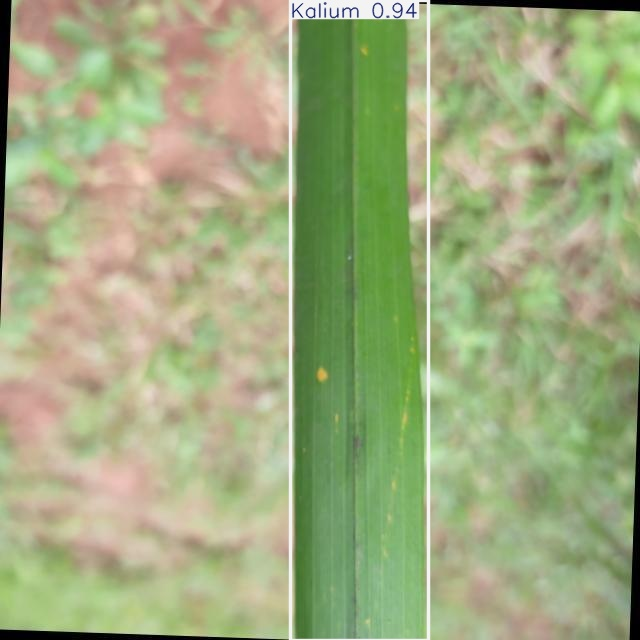Kalium: (290, 0, 429, 640)
